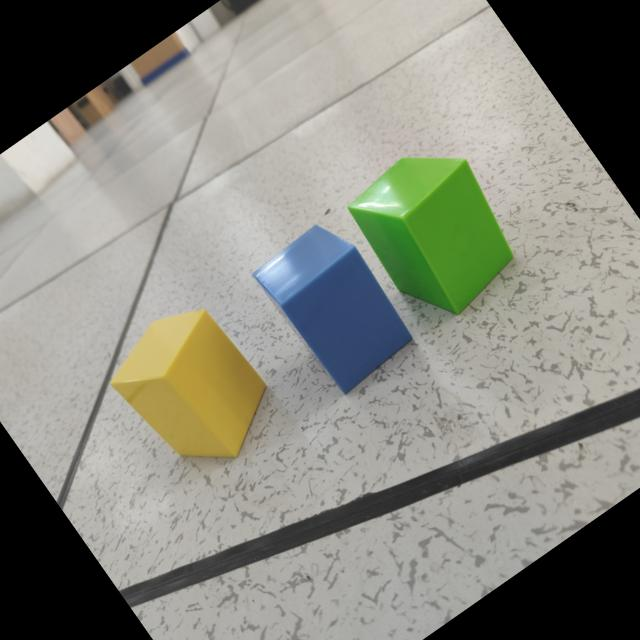blue: (254, 225, 413, 394)
green: (348, 157, 515, 315)
yellow: (111, 308, 267, 460)
